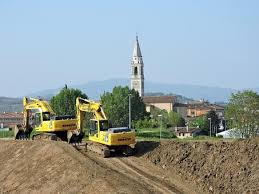excavator: (75, 96, 138, 160), (11, 98, 76, 142)
